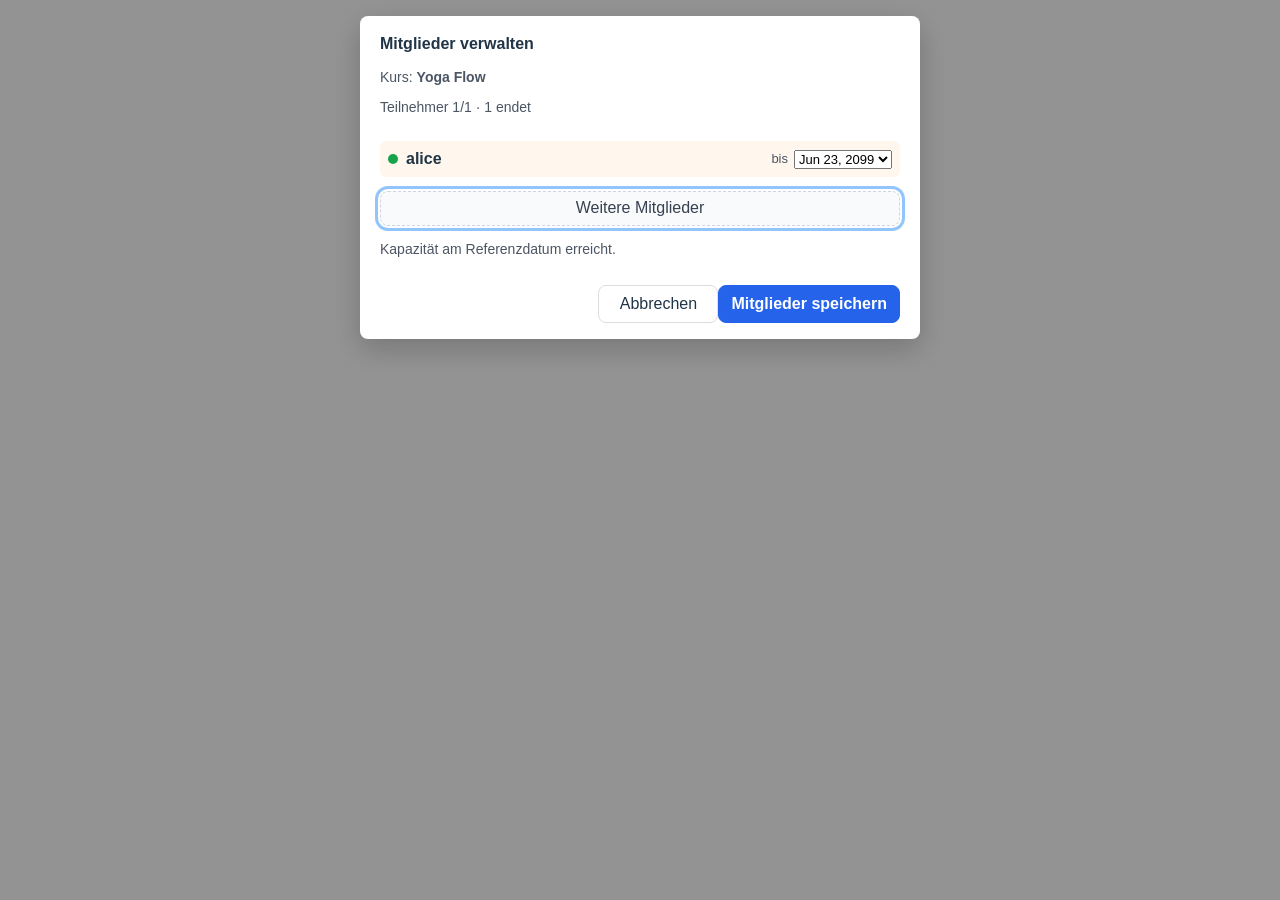
Scenario: CourseMembersDialog › lehnt Add am inklusiven Endetag des Vorgängers ab (#332)
The image size is (1280, 900).
Expected: the text "Teilnehmer 1/1 · 1 endet" is shown, [380,99,531,115]
Click the button "Weitere Mitglieder". click: (640, 208)
box: [380,191,900,226]
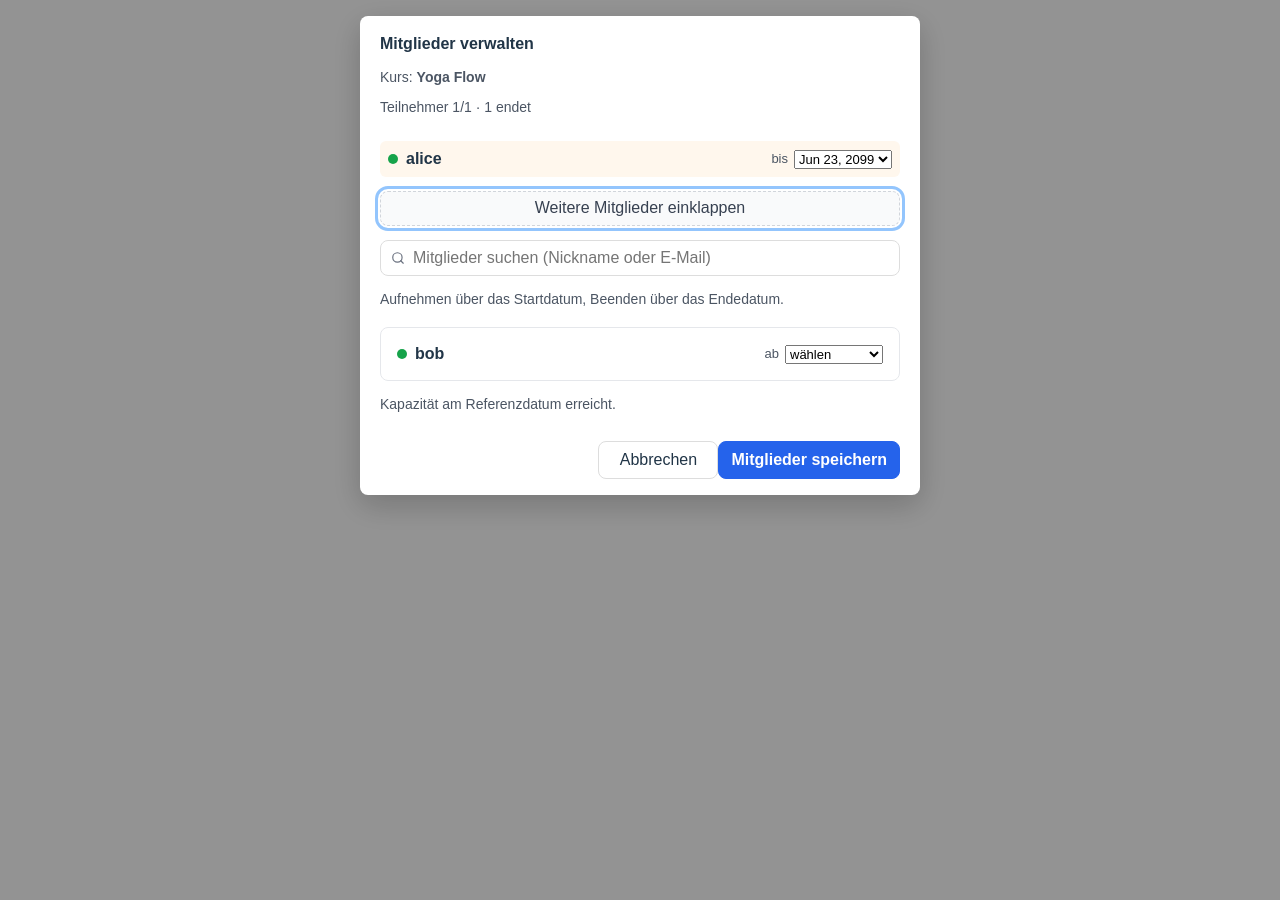
Select "Jun 23, 2099" in the dropdown named "bob gültig ab". click: (834, 354)
box: [785,345,883,364]
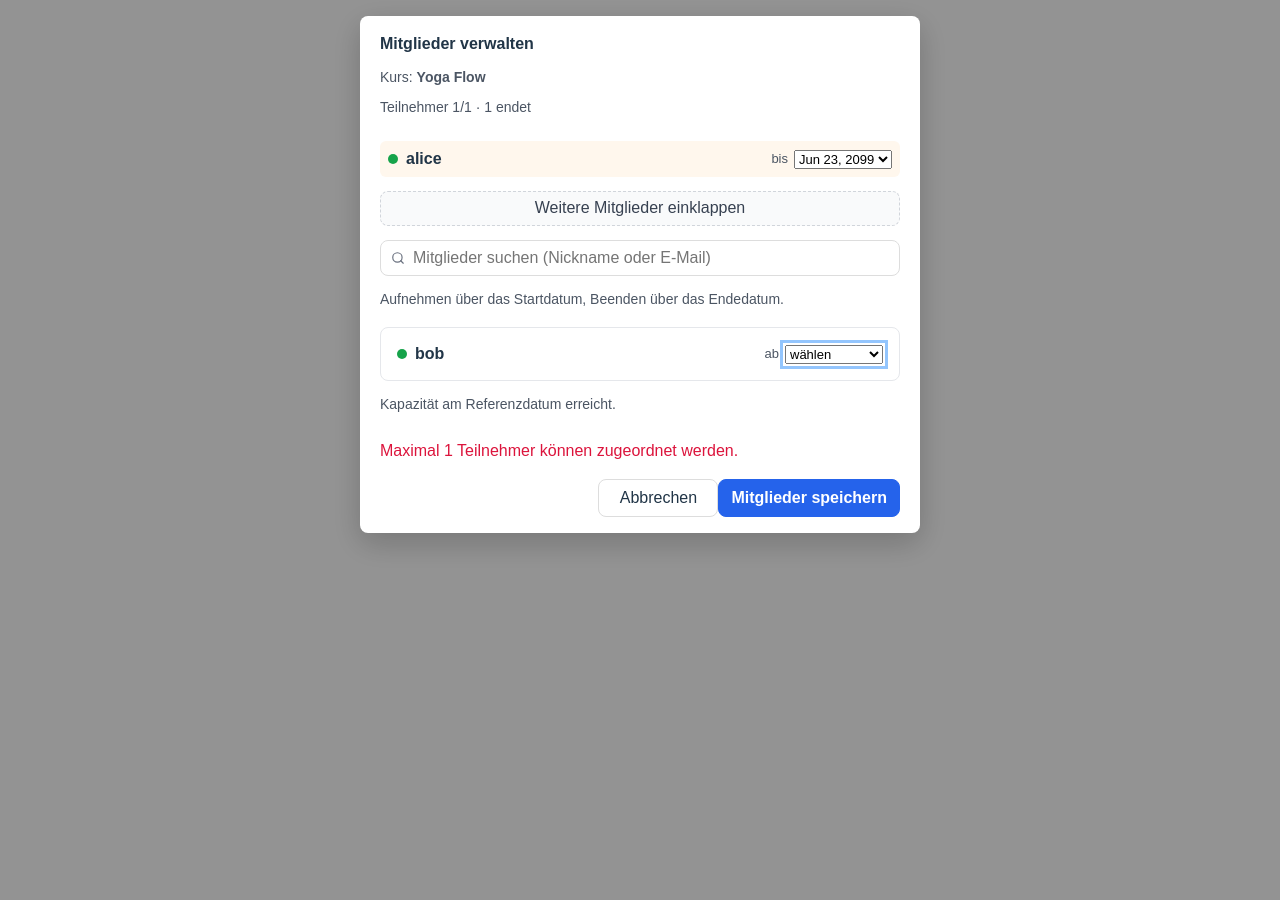
Expected: the text "Maximal 1 Teilnehmer können zugeordnet werden." is shown, [380,442,738,459]
